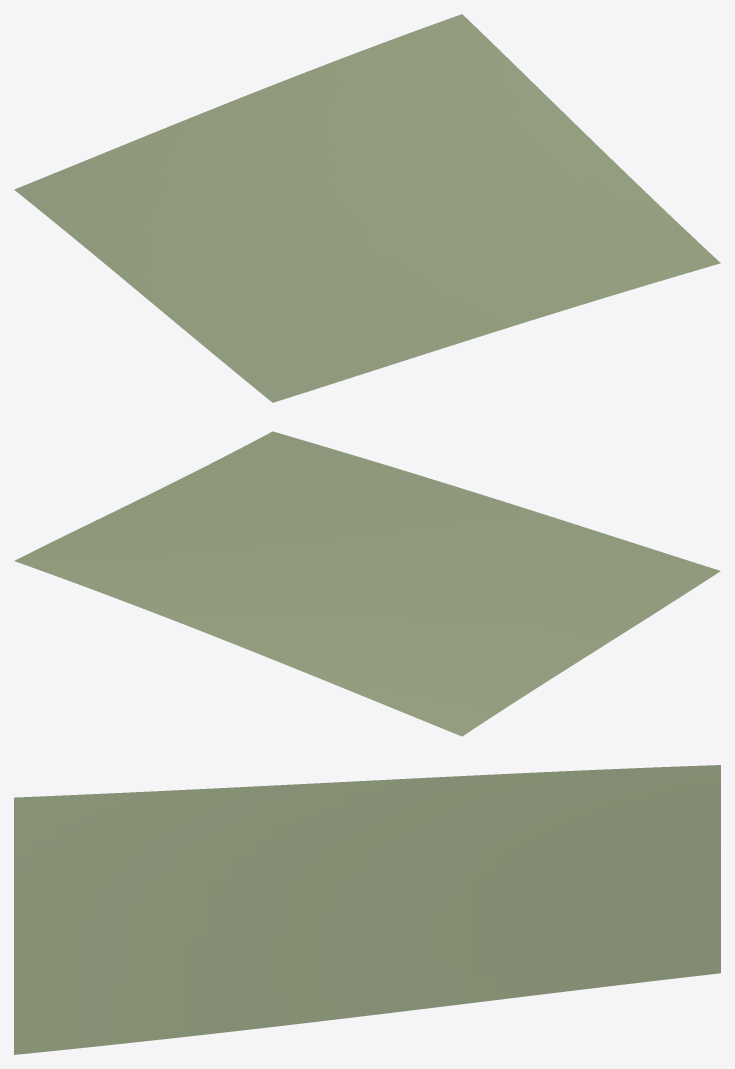
The model's file is desert-23-11.glb.
The picture shows the model from 3 angles, top to bottom: view 1: azimuth 30°, elevation 25°; view 2: azimuth 150°, elevation 25°; view 3: azimuth 270°, elevation 25°; orthographic projection. The views are drawn at different scales.
Parts seen in each view (by area): view 1: desert-23-11; view 2: desert-23-11; view 3: desert-23-11.
Part boxes in pixels (x1,y1,x2,y2): desert-23-11: (14, 14, 720, 402); desert-23-11: (14, 431, 720, 736); desert-23-11: (14, 765, 720, 1054).
Bounding box in the file's own units: 512 × 98.32 × 512.
